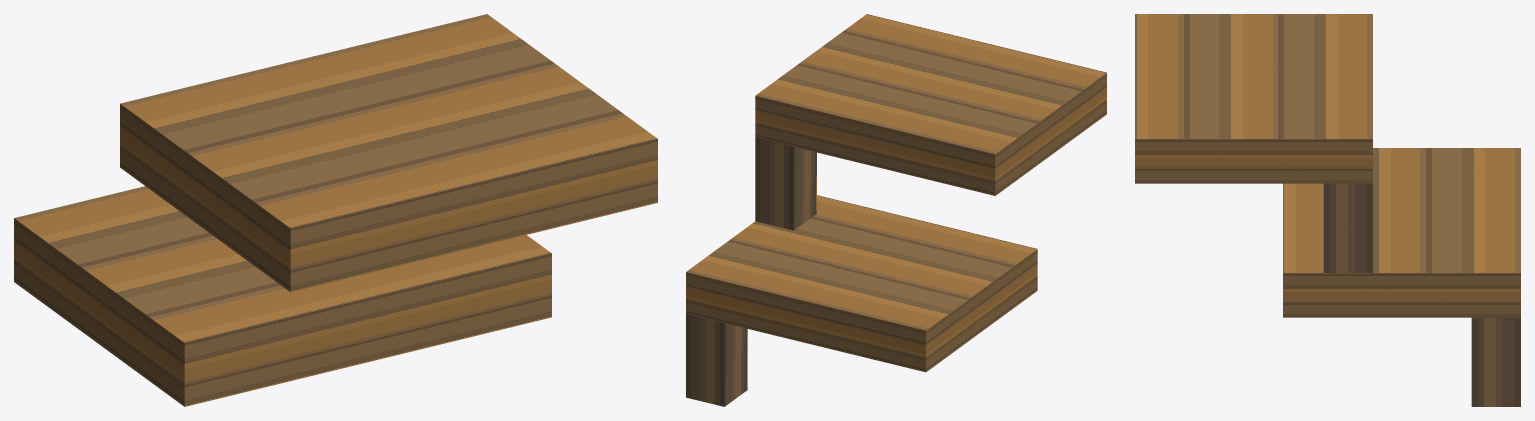
The model's file is WoodStair_Left.fbx.
3 views of the same model, side by side, from view 1: azimuth 30°, elevation 25°; view 2: azimuth 150°, elevation 25°; view 3: azimuth 270°, elevation 25° (orthographic). The views are drawn at different scales.
Parts seen in each view (by area): view 1: 立方体.010; view 2: 立方体.010; view 3: 立方体.010.
Part boxes in pixels (x1,y1,x2,y2): 立方体.010: [14, 14, 657, 406]; 立方体.010: [686, 14, 1106, 406]; 立方体.010: [1135, 14, 1520, 406].
Size of the model in its own units: 100 by 100 by 130.
